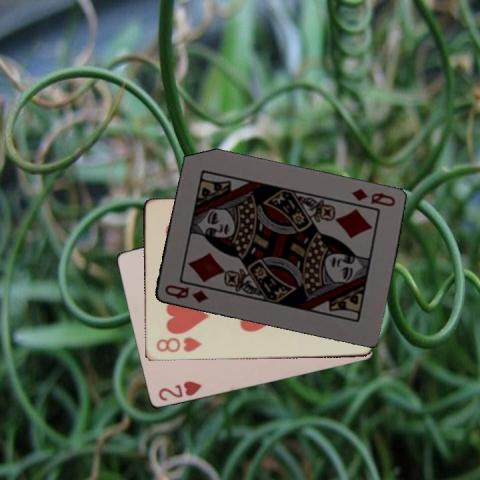2h: (154, 378, 202, 403)
8h: (153, 334, 202, 355)
Qd: (348, 186, 397, 209), (162, 282, 210, 305)
